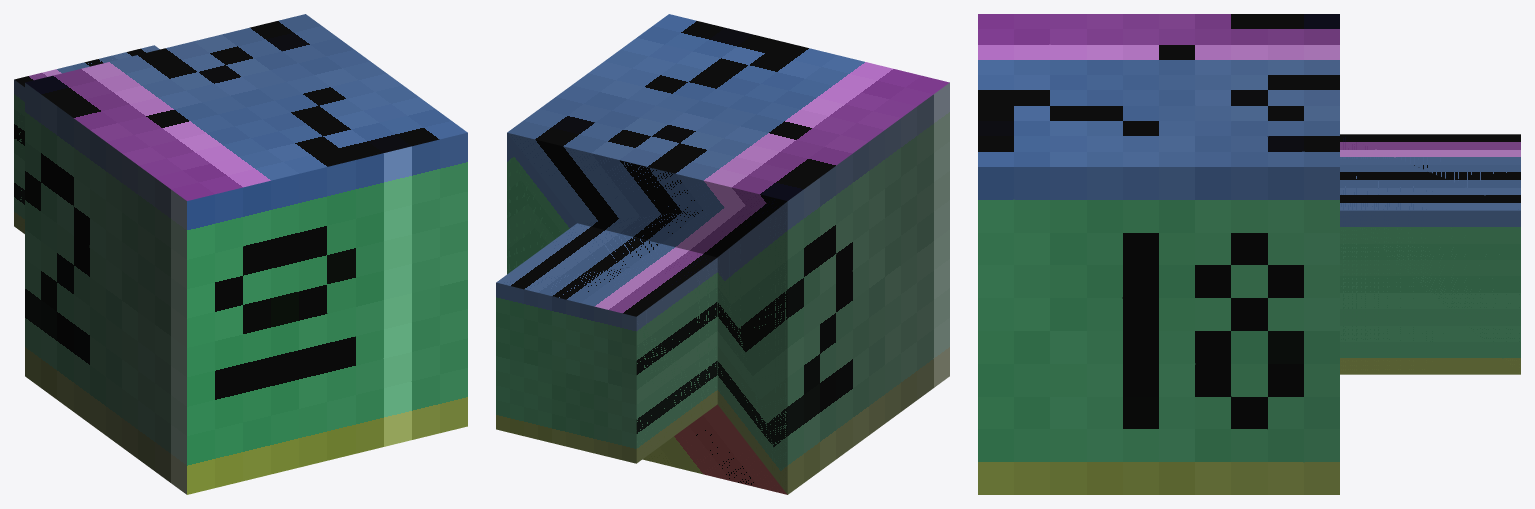
Rendered from individual.obj.
3 views of the same model, side by side, from view 1: azimuth 30°, elevation 25°; view 2: azimuth 150°, elevation 25°; view 3: azimuth 270°, elevation 25° (orthographic). The views are drawn at different scales.
Parts seen in each view (by area): view 1: Cube; view 2: Cube; view 3: Cube.
Part boxes in pixels (left/top/right/bottom): Cube: left=14, top=14, right=467, bottom=494; Cube: left=496, top=14, right=949, bottom=494; Cube: left=978, top=14, right=1520, bottom=494.
Bounding box in the file's own units: 20 × 20 × 30.
